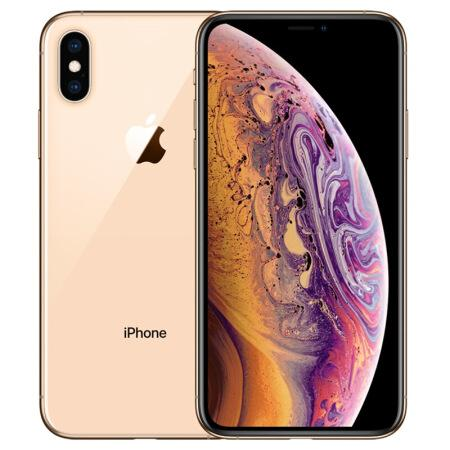phone: (192, 12, 410, 439), (38, 10, 195, 438)
